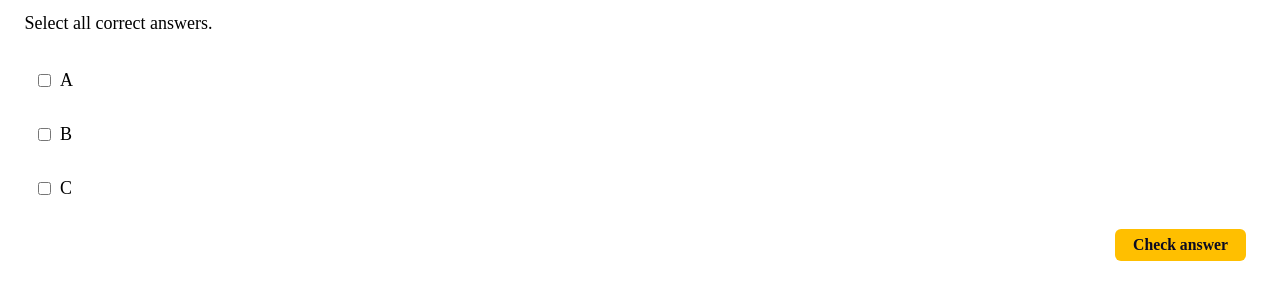
Scenario: SelectAll › shows incorrect feedback when an extra wrong option is selected
Click the checkbox labelled "A" at coordinates (44, 80), box [38,74,51,86]
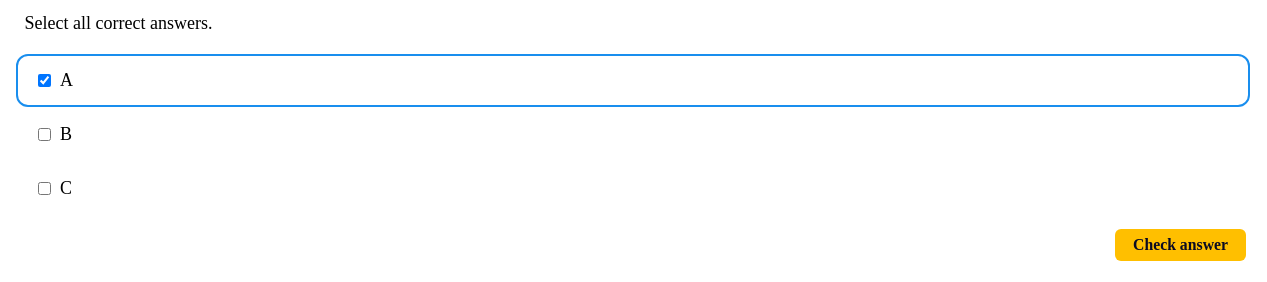
Click the checkbox labelled "B" at coordinates (44, 134), box [38,128,51,140]
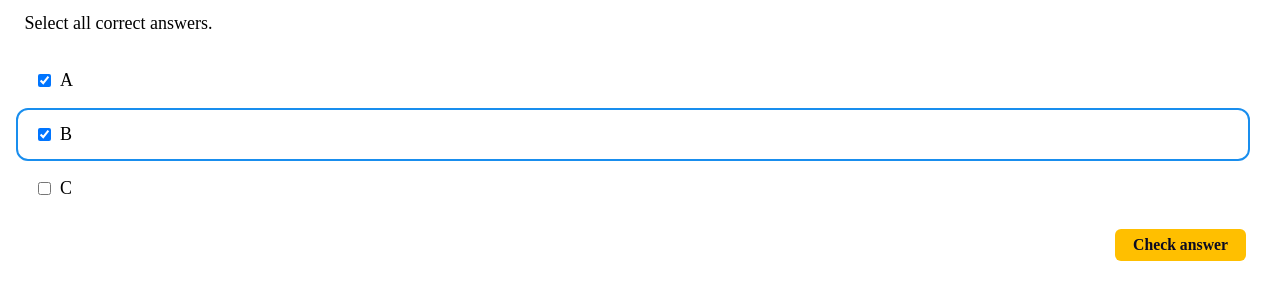
Click the checkbox labelled "C" at coordinates (44, 188), box [38,182,51,194]
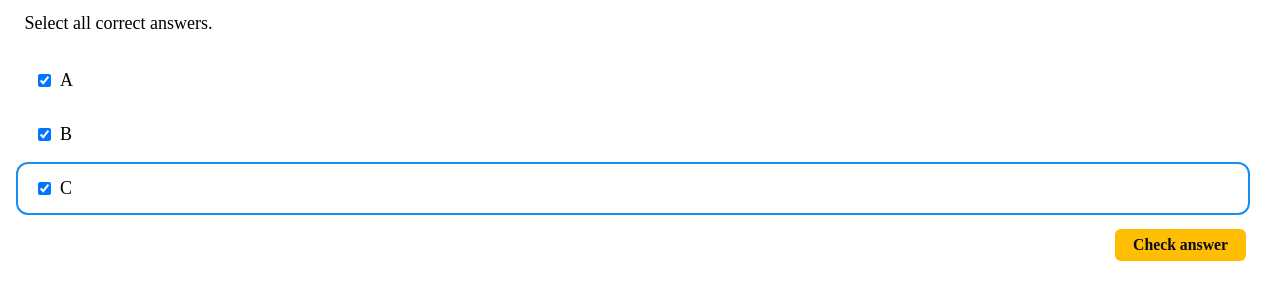
Click the button "Check answer" at coordinates (1181, 245), box [1115,228,1246,261]
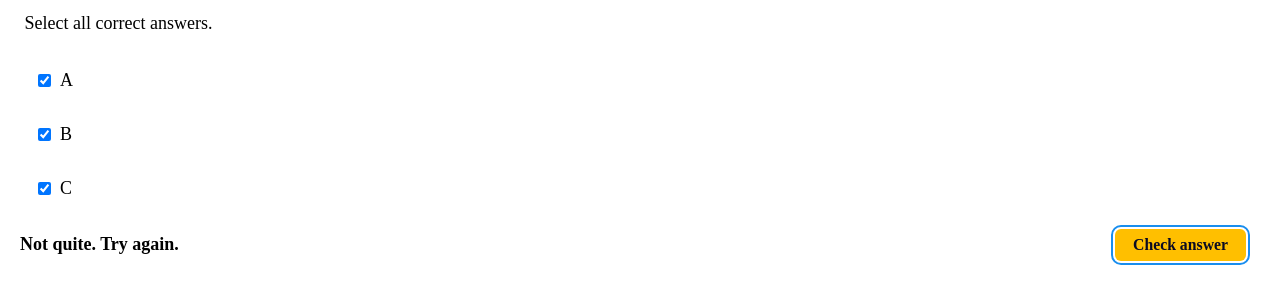
Result: the message reads "Not quite. Try again." at [20,234,179,254]
